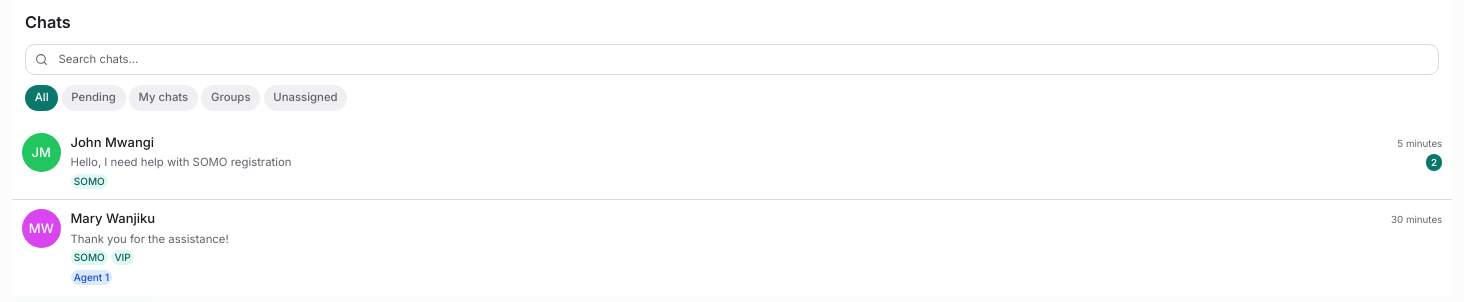
Test: ChatList › filtering › shows empty state when filter returns no results
Check: the text "John Mwangi" is shown, box [70,133,154,153]
Click the button "Pending" at (94, 98), box [62,84,126,110]
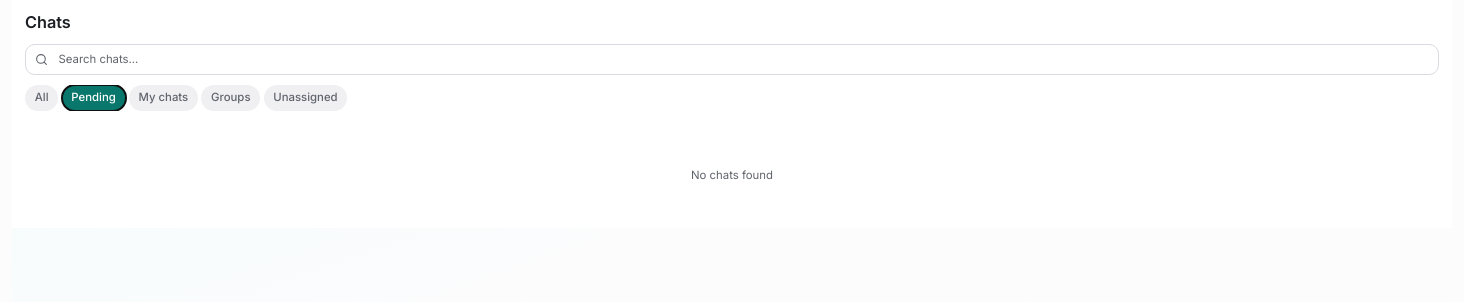
Check: the text "No chats found" is shown, box [691,167,773,184]
